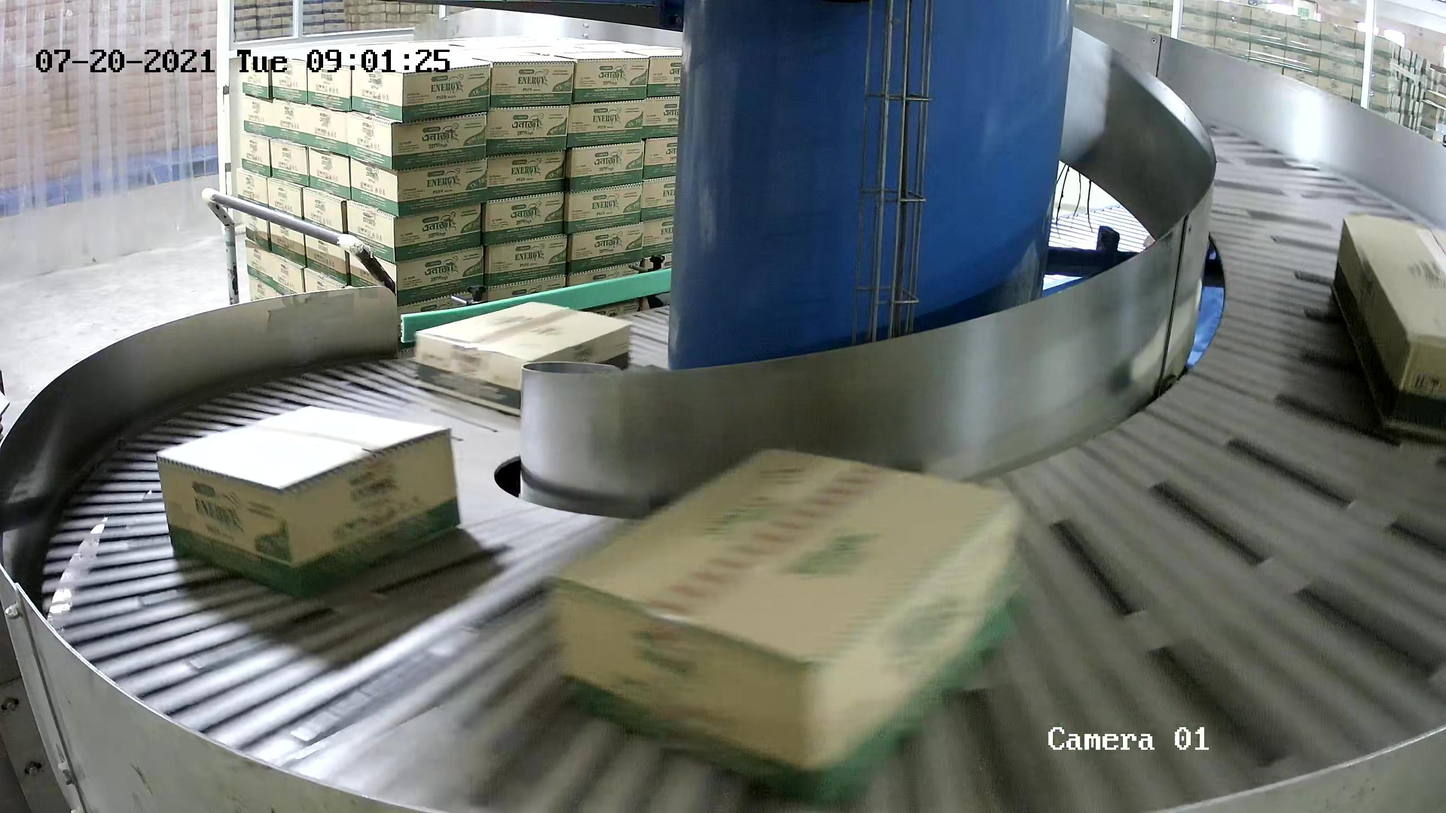Box: (553, 442, 1021, 811), (159, 405, 464, 599), (1329, 212, 1446, 444), (416, 299, 636, 421)
